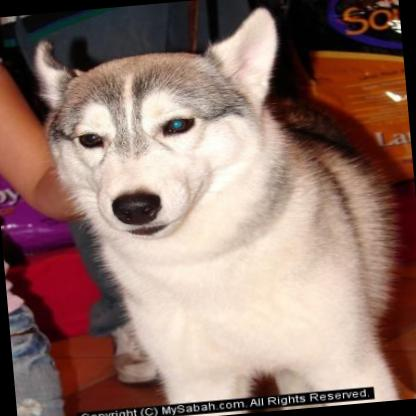Siberian_husky: (18, 0, 410, 416)
